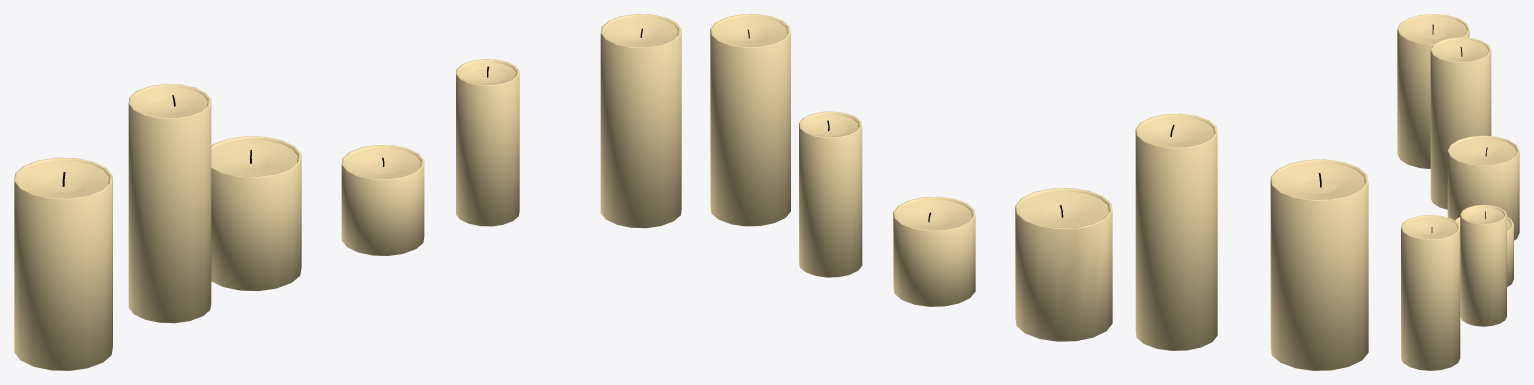
File: Candles.fbx
3 views of the same model, side by side, from view 1: azimuth 30°, elevation 25°; view 2: azimuth 150°, elevation 25°; view 3: azimuth 270°, elevation 25° (orthographic). The views are drawn at different scales.
Visible parts, largest first — view 1: Candle 2, Candle 1, Candle 6, Candle 3, Candle 5, Candle 4; view 2: Candle 2, Candle 1, Candle 6, Candle 3, Candle 5, Candle 4; view 3: Candle 6, Candle 1, Candle 2, Candle 5, Candle 3, Candle 4.
Boxes of the visible parts, bbox=[...] form: Candle 2: bbox=[14, 157, 112, 370]; Candle 1: bbox=[128, 84, 211, 323]; Candle 6: bbox=[600, 14, 681, 228]; Candle 3: bbox=[211, 136, 301, 291]; Candle 5: bbox=[456, 59, 519, 226]; Candle 4: bbox=[341, 145, 424, 255]; Candle 2: bbox=[1270, 159, 1368, 370]; Candle 1: bbox=[1135, 113, 1217, 350]; Candle 6: bbox=[710, 14, 790, 226]; Candle 3: bbox=[1015, 188, 1112, 341]; Candle 5: bbox=[799, 111, 862, 277]; Candle 4: bbox=[893, 196, 975, 306]; Candle 6: bbox=[1401, 215, 1460, 370]; Candle 1: bbox=[1430, 37, 1491, 209]; Candle 2: bbox=[1397, 14, 1469, 168]; Candle 5: bbox=[1460, 204, 1506, 326]; Candle 3: bbox=[1447, 135, 1519, 240]; Candle 4: bbox=[1455, 217, 1513, 286].
Bounding box in the file's own units: 1330 × 410 × 296.
